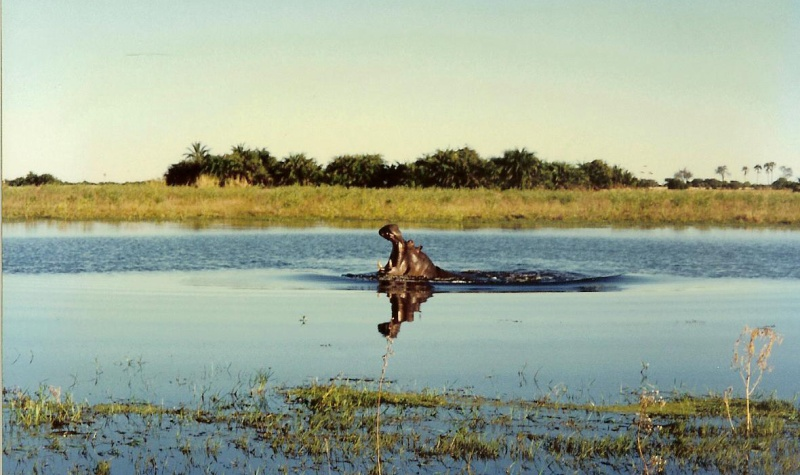hipopotamo: (368, 216, 570, 309)
